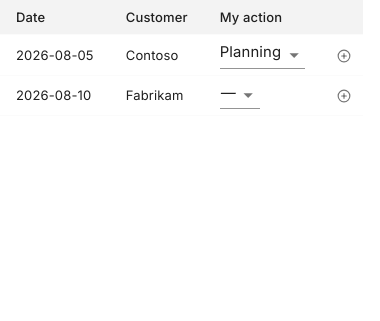
Test: EbcTile › exposes the action choices from the exported EBC_ACTIONS constant
This screenshot has width=380, height=321.
Check: the text "Contoso" is shown, box [110,35,204,76]
Press the mouse on the dropdown named "my action for contoso" at x=250, y=52, box [220,43,281,61]
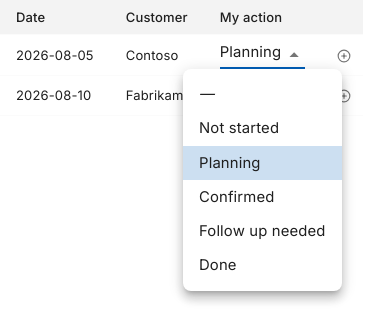
Check: the option "Not started" is shown, box [199,119,279,137]
Check: the option "Planning" is shown, box [183,146,342,180]
Check: the option "Confirmed" is shown, box [199,188,274,206]
